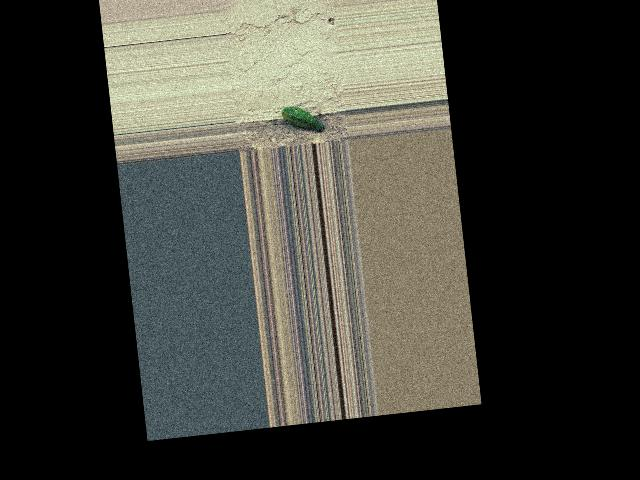cucumber: (280, 102, 323, 135)
